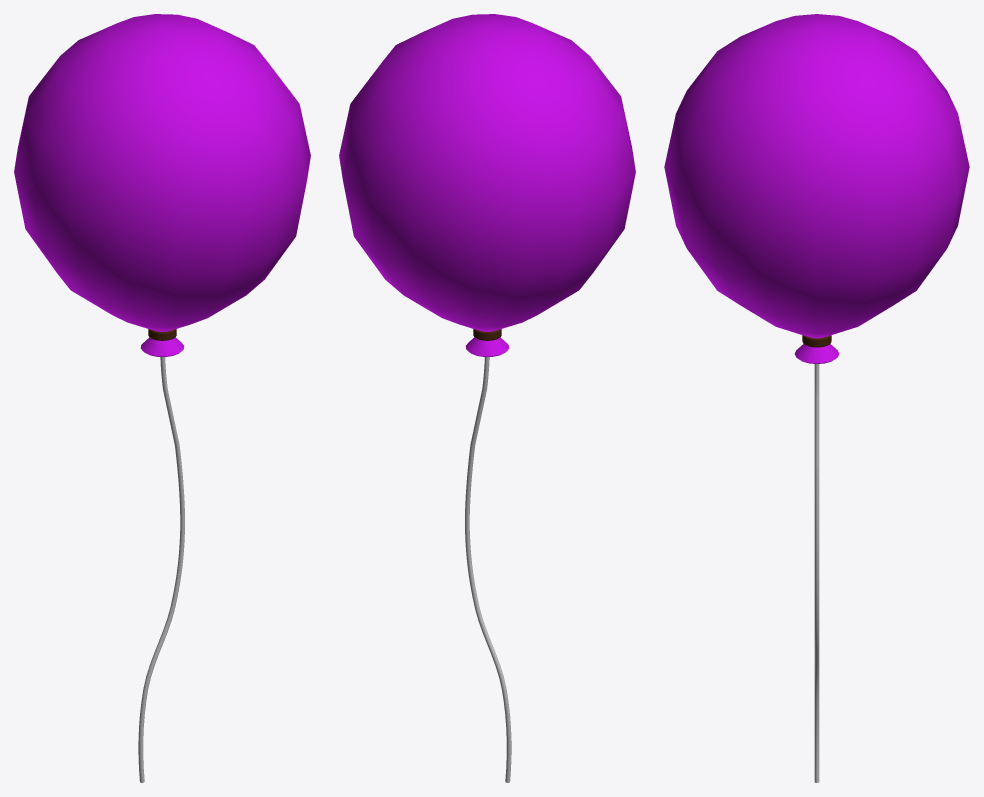
File: Balloon_Pink.FBX
3 views of the same model, side by side, from view 1: azimuth 30°, elevation 25°; view 2: azimuth 150°, elevation 25°; view 3: azimuth 270°, elevation 25° (orthographic).
Parts seen in each view (by area): view 1: Sphere001; view 2: Sphere001; view 3: Sphere001.
Boxes of the visible parts, box(x1,y1,x2,y2) form: Sphere001: box(14, 14, 310, 782); Sphere001: box(339, 14, 635, 782); Sphere001: box(664, 14, 969, 782).
Bounding box in the file's own units: 62.15 × 172 × 62.15.
